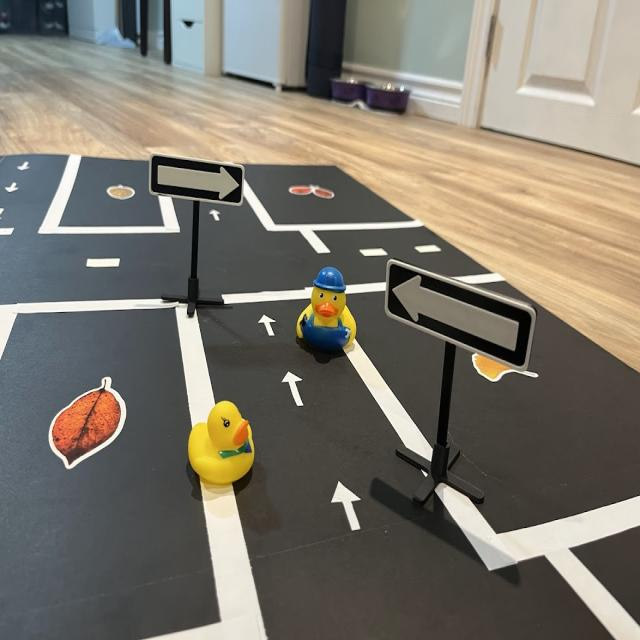duck_regular: (189, 403, 257, 488)
duck_specialty: (296, 268, 359, 364)
road_oneway: (330, 479, 365, 536), (281, 367, 311, 413), (254, 310, 277, 341), (208, 208, 227, 225), (16, 157, 33, 174), (5, 179, 22, 195)
sign_oneway_left: (385, 262, 538, 373)
sign_oneway_right: (150, 158, 245, 208)
